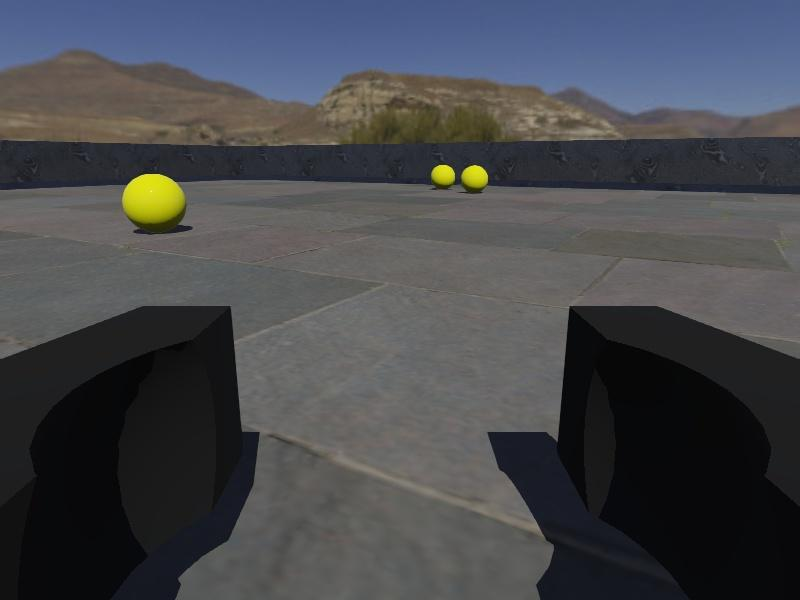yellow ball: (122, 173, 187, 234), (461, 165, 489, 192), (430, 163, 456, 189)
